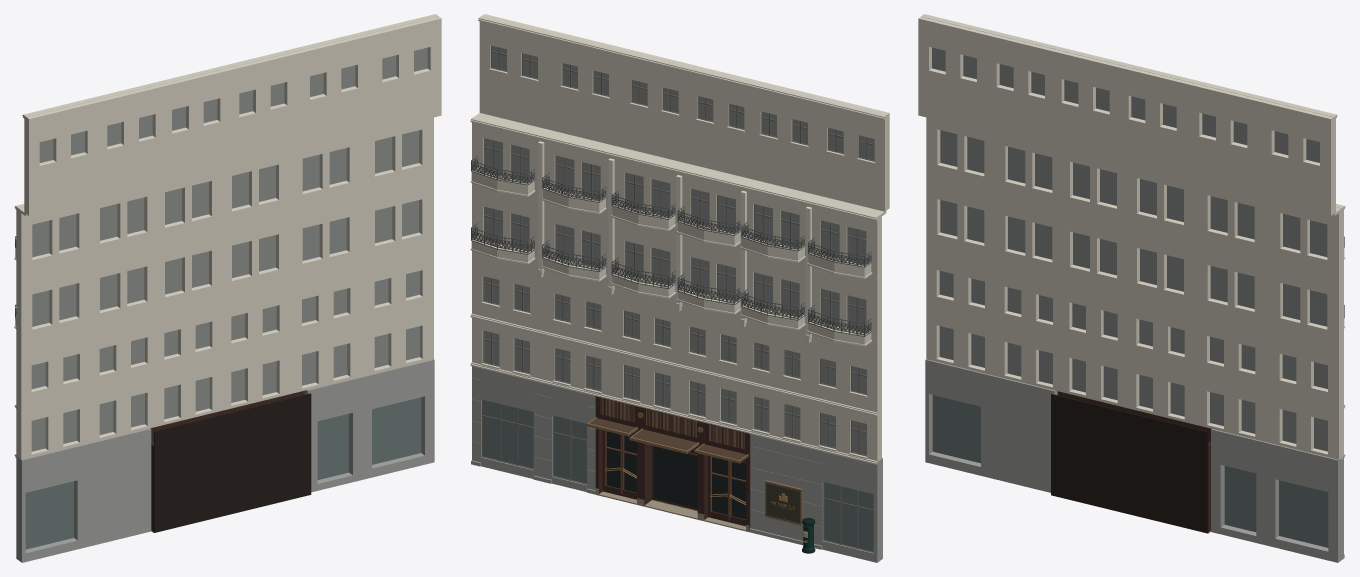
Rendered from huangpu-nankin-hotel-shanxi-front-raw.glb.
The picture shows the model from 3 angles, left to right: view 1: azimuth 30°, elevation 25°; view 2: azimuth 150°, elevation 25°; view 3: azimuth 330°, elevation 25°; orthographic projection.
Parts seen in each view (by area): view 1: 南京饭店山西南路入口与钝角阳台; view 2: 南京饭店山西南路入口与钝角阳台; view 3: 南京饭店山西南路入口与钝角阳台.
Part boxes in pixels (x1,y1,x2,y2): 南京饭店山西南路入口与钝角阳台: [14, 14, 441, 562]; 南京饭店山西南路入口与钝角阳台: [470, 14, 889, 562]; 南京饭店山西南路入口与钝角阳台: [918, 14, 1345, 562].
Bounding box in the file's own units: 21.23 × 22.08 × 2.38.
